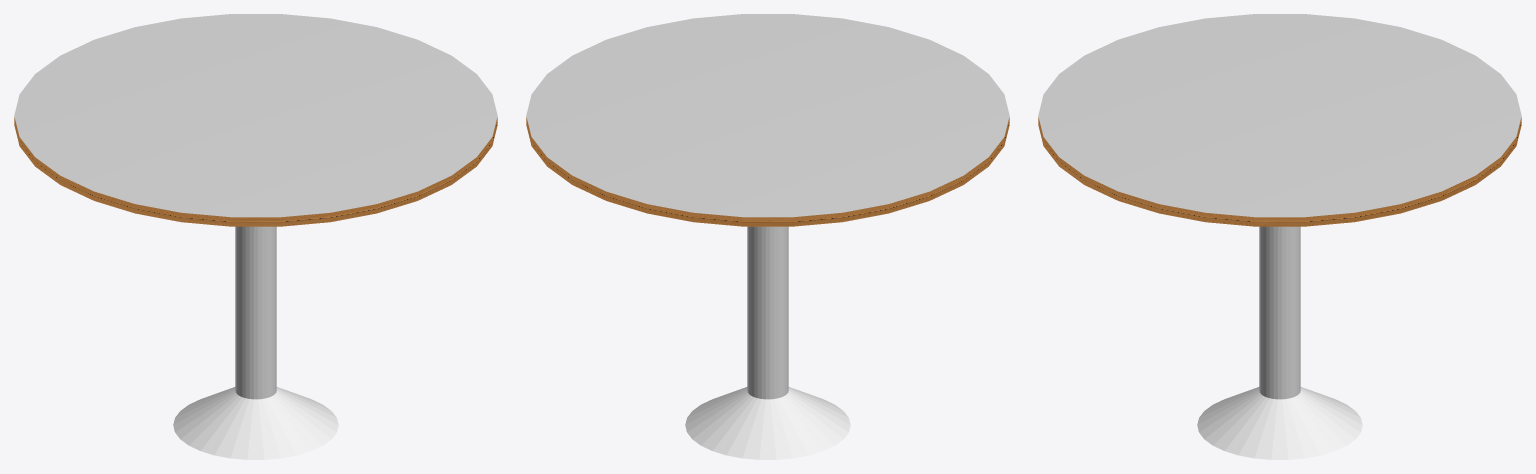
Rendered from mesa_interna_redonda__round_table.glb.
The picture shows the model from 3 angles, left to right: view 1: azimuth 30°, elevation 25°; view 2: azimuth 150°, elevation 25°; view 3: azimuth 270°, elevation 25°; orthographic projection.
Visible parts, largest first — view 1: Cylinder.005_0, Cylinder.006_1; view 2: Cylinder.005_0, Cylinder.006_1; view 3: Cylinder.005_0, Cylinder.006_1.
Part boxes in pixels (x1,y1,x2,y2): Cylinder.005_0: (14,14,497,226); Cylinder.006_1: (173,226,338,459); Cylinder.005_0: (526,14,1009,226); Cylinder.006_1: (685,226,850,459); Cylinder.005_0: (1038,14,1521,226); Cylinder.006_1: (1197,226,1362,459).
Bounding box in the file's own units: 1.11 × 0.7918 × 1.12.
3 materials, 1 textured.
